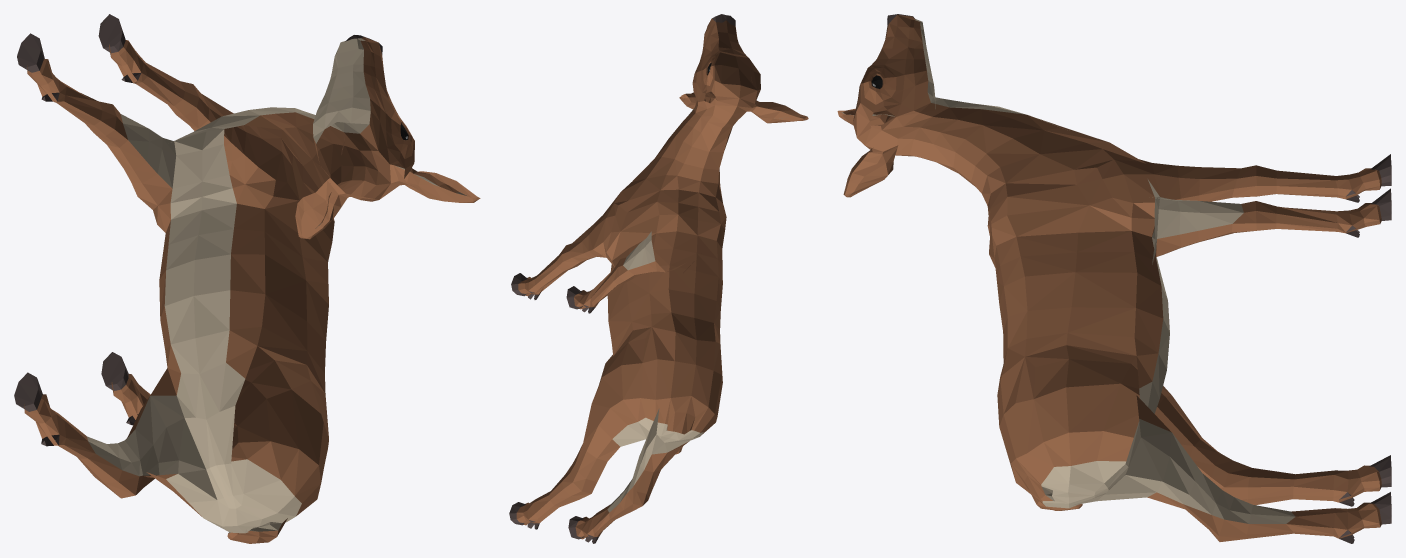
File: deer-idle-2.glb
3 renders of one model, left to right at view 1: azimuth 30°, elevation 25°; view 2: azimuth 150°, elevation 25°; view 3: azimuth 270°, elevation 25°, orthographic. The views are drawn at different scales.
Size of the model in its own units: 0.4803 by 1.44 by 1.41.
